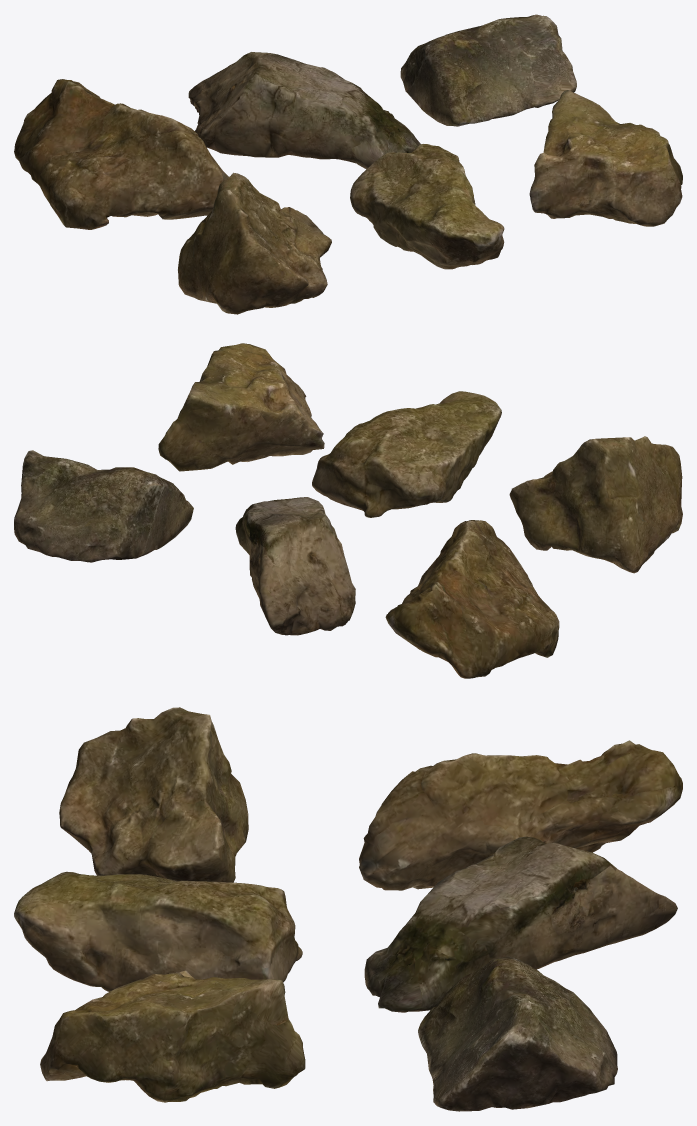
The model's file is rock_moss_set_01.glb.
The picture shows the model from 3 angles, top to bottom: view 1: azimuth 30°, elevation 25°; view 2: azimuth 150°, elevation 25°; view 3: azimuth 270°, elevation 25°; orthographic projection. The views are drawn at different scales.
Visible parts, largest first — view 1: rock_moss_set_01_rock01, rock_moss_set_01_rock02, rock_moss_set_01_rock06, rock_moss_set_01_rock04, rock_moss_set_01_rock03, rock_moss_set_01_rock05; view 2: rock_moss_set_01_rock04, rock_moss_set_01_rock01, rock_moss_set_01_rock05, rock_moss_set_01_rock03, rock_moss_set_01_rock06, rock_moss_set_01_rock02; view 3: rock_moss_set_01_rock01, rock_moss_set_01_rock02, rock_moss_set_01_rock05, rock_moss_set_01_rock04, rock_moss_set_01_rock06, rock_moss_set_01_rock03.
Boxes of the visible parts, bbox=[...] form: rock_moss_set_01_rock01: bbox=[14, 79, 228, 229]; rock_moss_set_01_rock02: bbox=[188, 52, 420, 169]; rock_moss_set_01_rock06: bbox=[529, 90, 682, 226]; rock_moss_set_01_rock04: bbox=[178, 172, 331, 314]; rock_moss_set_01_rock03: bbox=[400, 14, 576, 126]; rock_moss_set_01_rock05: bbox=[350, 144, 504, 269]; rock_moss_set_01_rock04: bbox=[509, 436, 682, 573]; rock_moss_set_01_rock01: bbox=[385, 520, 559, 678]; rock_moss_set_01_rock05: bbox=[312, 391, 501, 517]; rock_moss_set_01_rock03: bbox=[14, 450, 193, 562]; rock_moss_set_01_rock06: bbox=[158, 343, 324, 471]; rock_moss_set_01_rock02: bbox=[235, 497, 355, 635]; rock_moss_set_01_rock01: bbox=[359, 740, 682, 890]; rock_moss_set_01_rock02: bbox=[364, 836, 677, 1012]; rock_moss_set_01_rock05: bbox=[14, 871, 302, 991]; rock_moss_set_01_rock04: bbox=[59, 707, 248, 882]; rock_moss_set_01_rock06: bbox=[40, 970, 305, 1102]; rock_moss_set_01_rock03: bbox=[418, 956, 617, 1111].
Bounding box in the file's own units: 8 × 1.76 × 6.94.
Materials: 1 (1 with a texture image).
